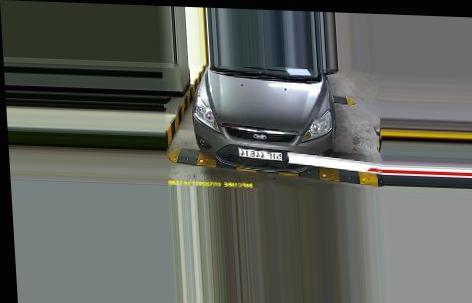License_Plate: (237, 147, 282, 160)
